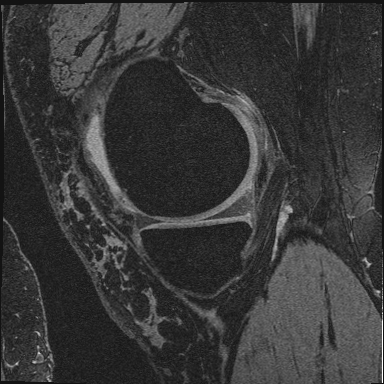effusion: (86, 122, 107, 172)
